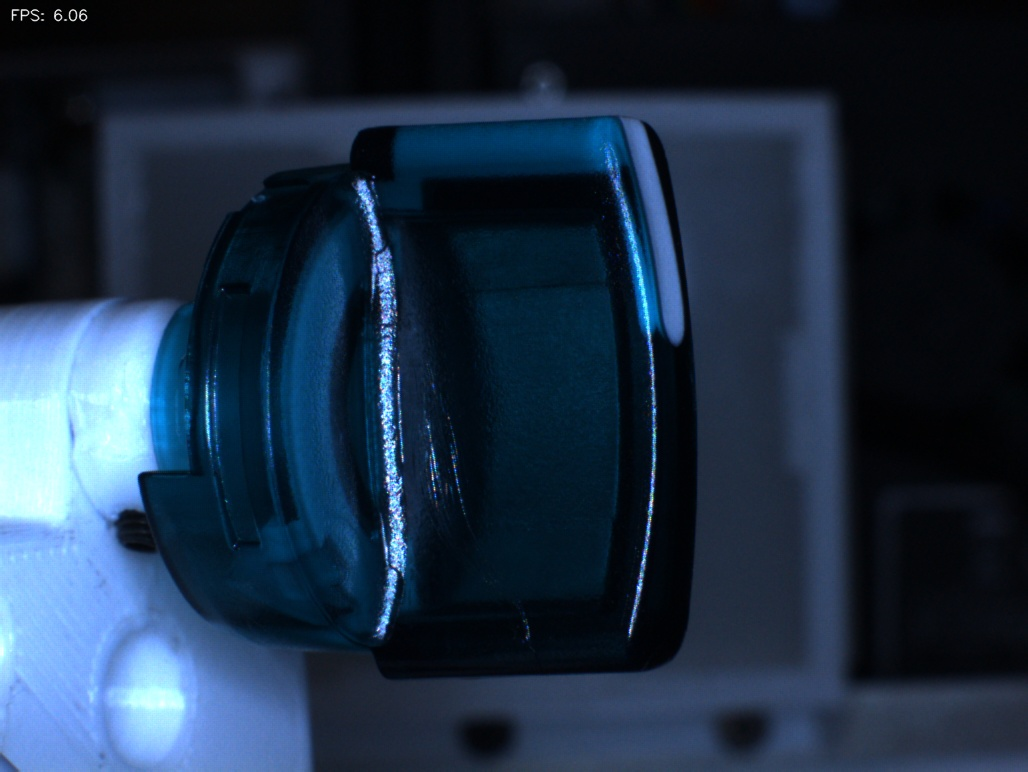Givrage: (417, 382, 538, 648)
